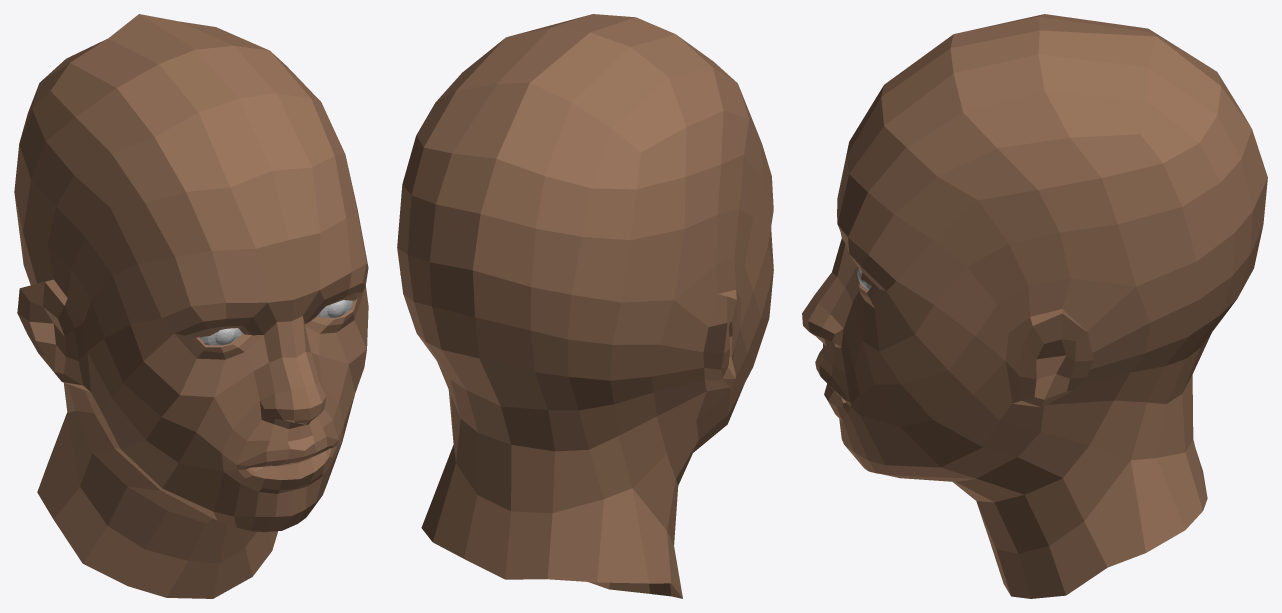
The model's file is male1591_head.obj.
The picture shows the model from 3 angles, left to right: view 1: azimuth 30°, elevation 25°; view 2: azimuth 150°, elevation 25°; view 3: azimuth 270°, elevation 25°; orthographic projection. The views are drawn at different scales.
Parts seen in each view (by area): view 1: male1591.001; view 2: male1591.001; view 3: male1591.001.
Boxes of the visible parts, left/top/right/bottom form: male1591.001: left=14, top=14, right=368, bottom=598; male1591.001: left=397, top=14, right=773, bottom=598; male1591.001: left=802, top=14, right=1267, bottom=598.
Size of the model in its own units: 0.1622 by 0.2724 by 0.2078.
